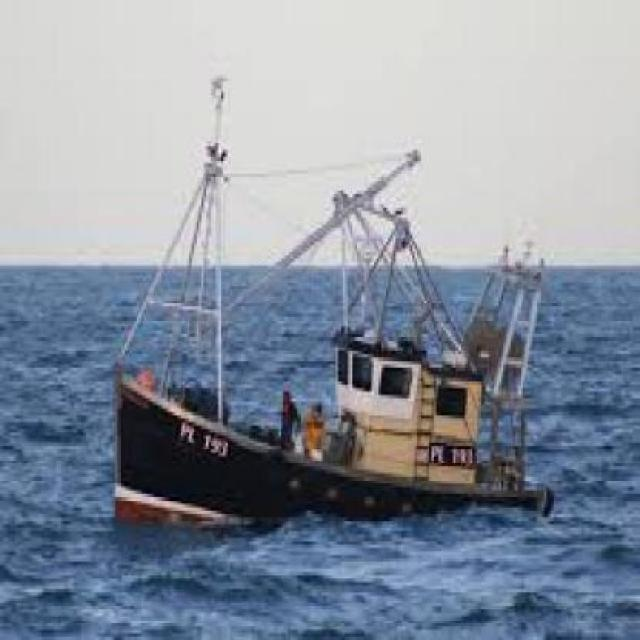fish-b: (95, 63, 576, 557)
